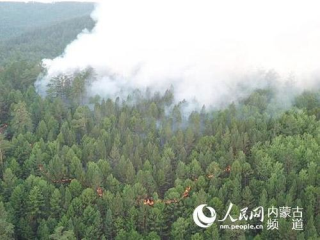smoke: (37, 9, 309, 111)
